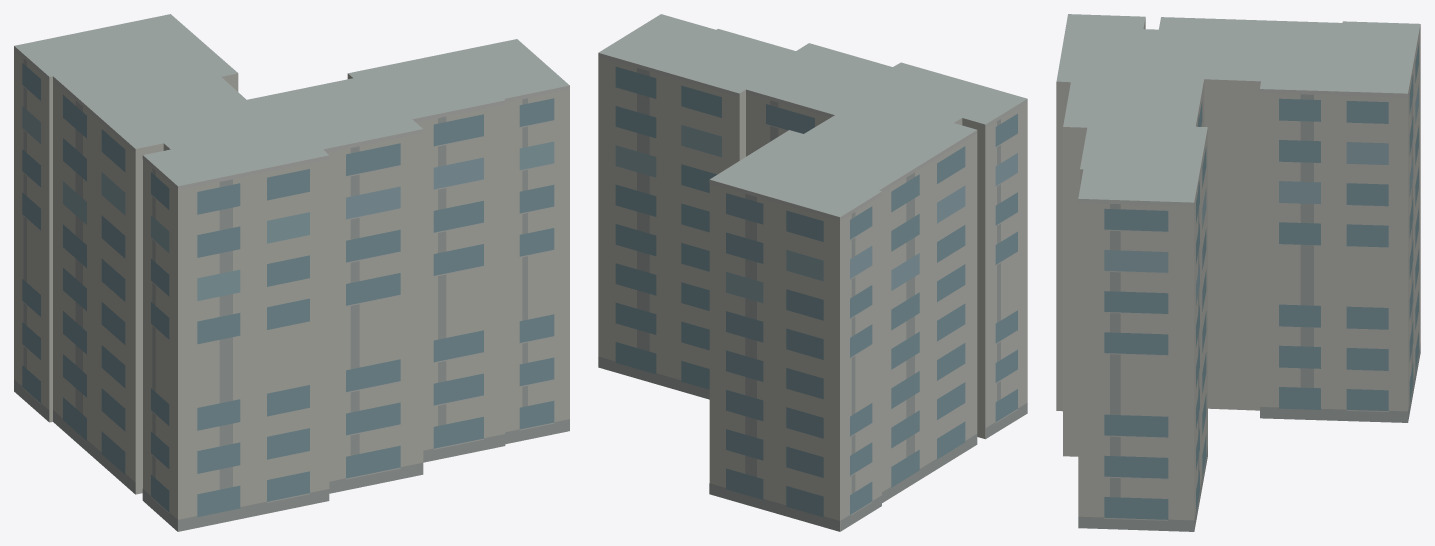
The model's file is survey-upis-32764154.glb.
3 views of the same model, side by side, from view 1: azimuth 30°, elevation 25°; view 2: azimuth 150°, elevation 25°; view 3: azimuth 270°, elevation 25° (orthographic). The views are drawn at different scales.
Parts seen in each view (by area): view 1: survey-upis-32764154.tmp; view 2: survey-upis-32764154.tmp; view 3: survey-upis-32764154.tmp.
Boxes of the visible parts, x1=… form: survey-upis-32764154.tmp: x1=14, y1=14, x2=569, y2=531; survey-upis-32764154.tmp: x1=598, y1=14, x2=1027, y2=531; survey-upis-32764154.tmp: x1=1056, y1=14, x2=1420, y2=531.
Size of the model in its own units: 24.57 by 20 by 20.05.
